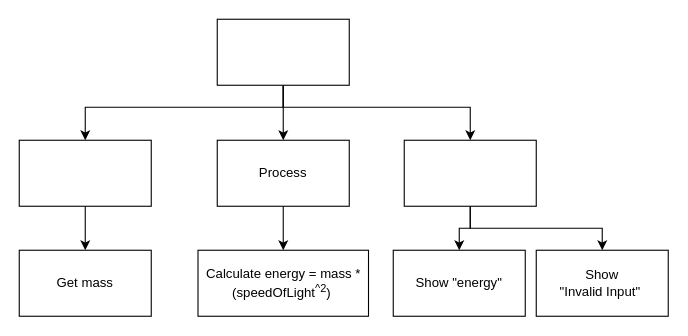
Some shapes in this 688 by 336 pixel diagram are drawn without their labels. The centre of each missing label's shape, as x and y in pixels:
Input: the point at 84,172
Log: the point at 282,51
Output: the point at 469,172
